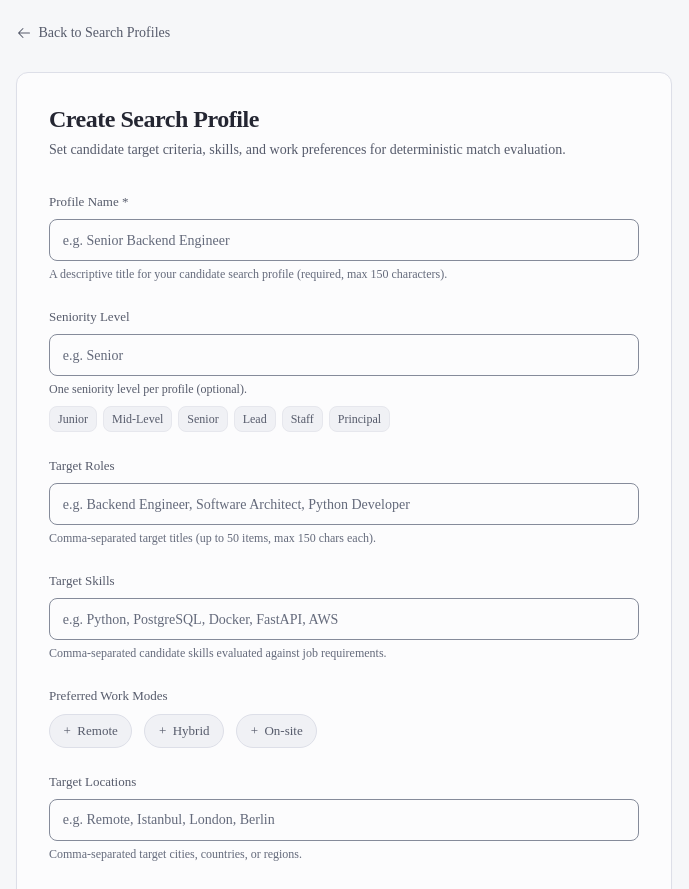
Test case: Search Profile Management UI › 5b. displays validation error when minimum salary exceeds maximum salary
Type "Valid Name" into the field with test id "profile-name-input" at (344,240), box [49, 219, 639, 261]
(page scrolled)
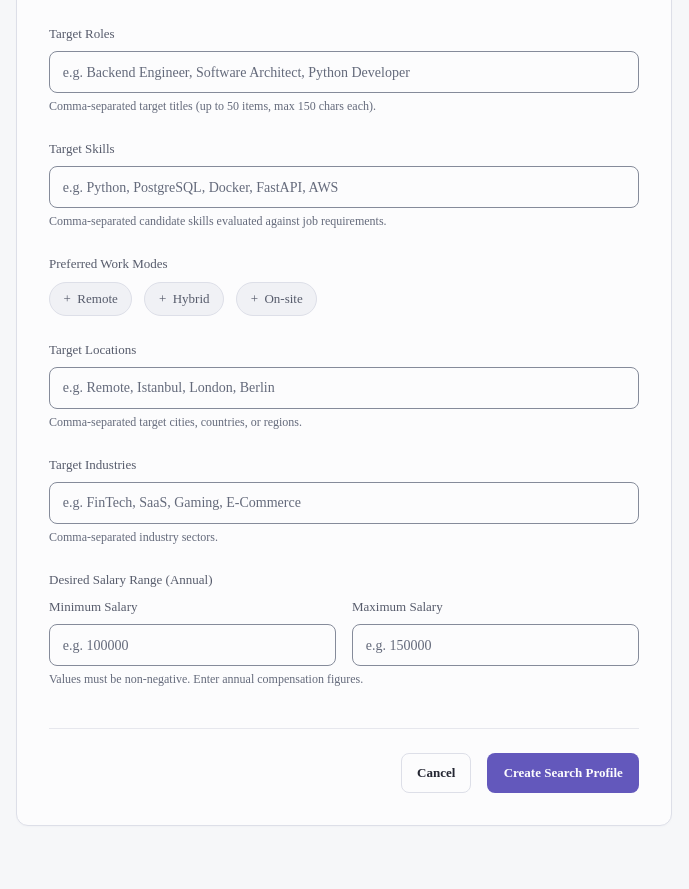
Type "200000" into the number field with test id "profile-salary-min-input" at (192,645), box [49, 624, 336, 666]
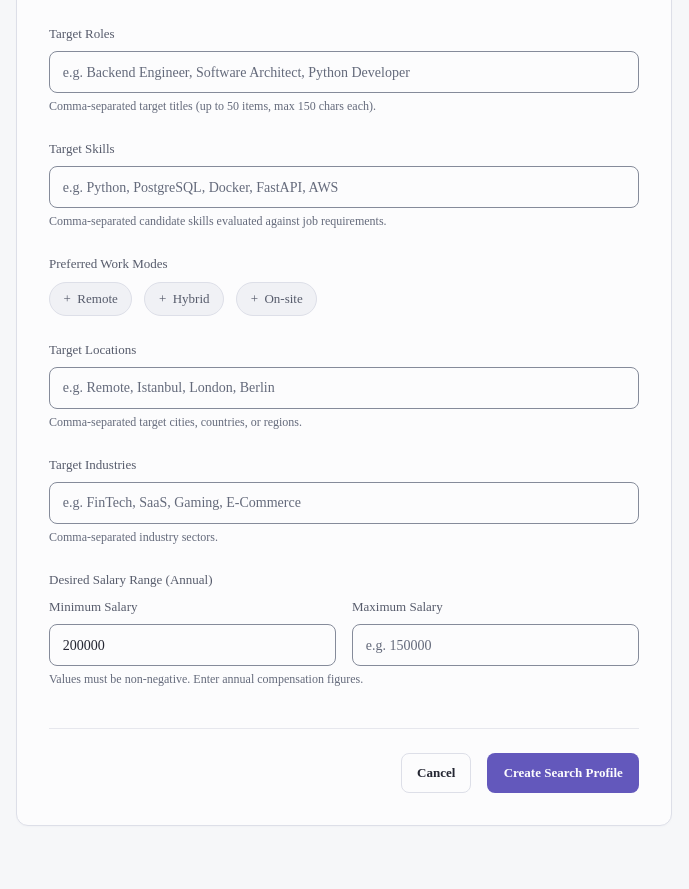
Type "100000" into the number field with test id "profile-salary-max-input" at (496,645), box [352, 624, 639, 666]
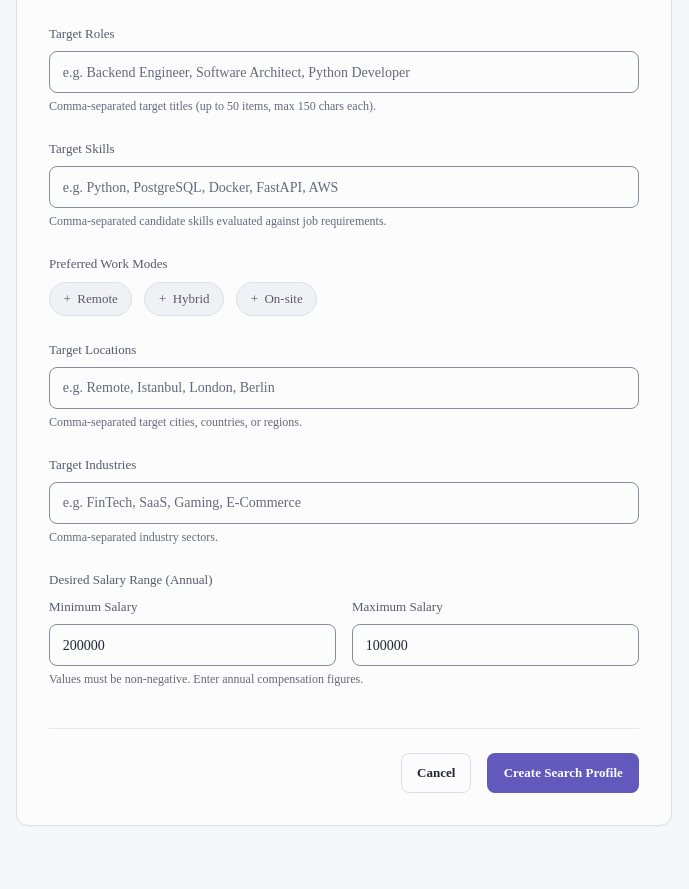
Click the button with test id "submit-create-profile-btn" at (563,773), box [488, 753, 639, 793]
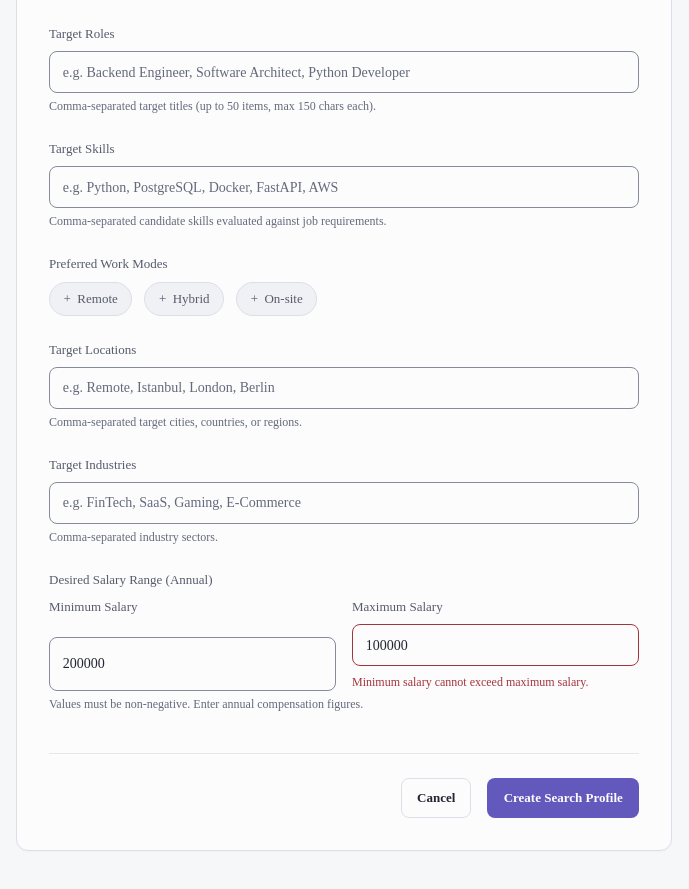
Now the text "Minimum salary cannot exceed maximum salary." is shown, box [352, 675, 588, 689]
